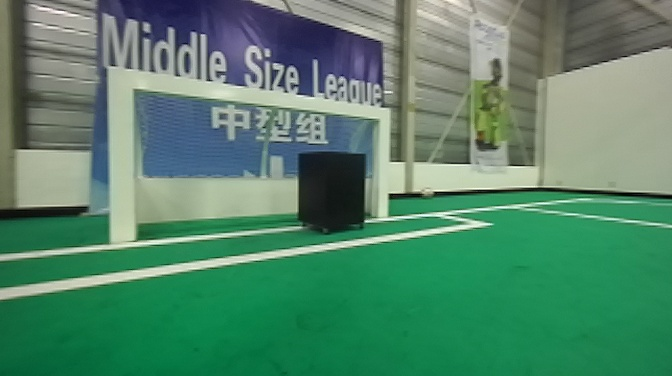ball: (416, 182, 439, 201)
goalpost: (102, 68, 144, 240), (367, 108, 390, 219)
